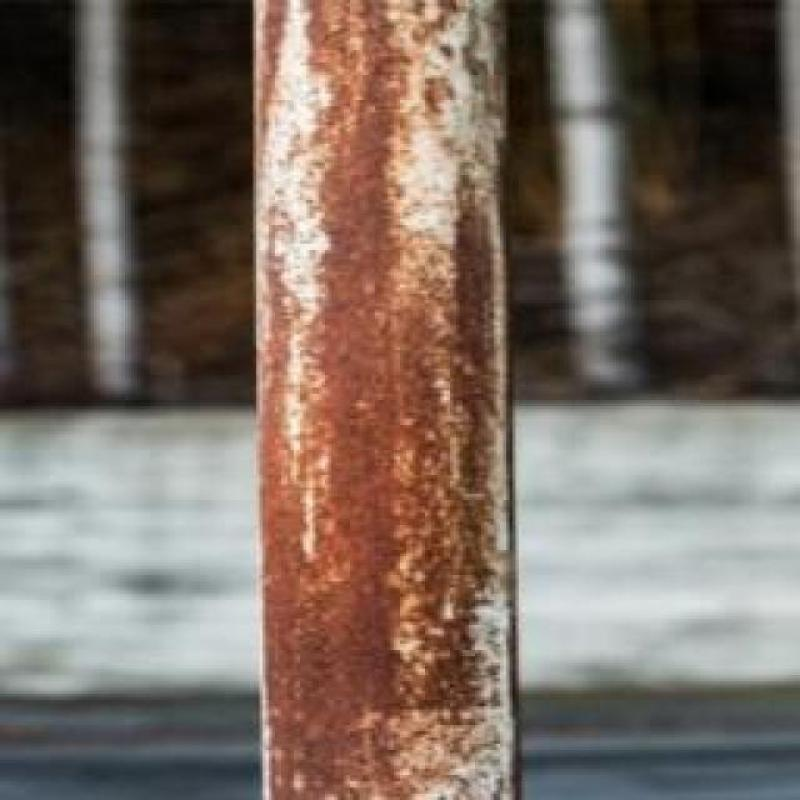corrosion: (246, 3, 546, 800)
